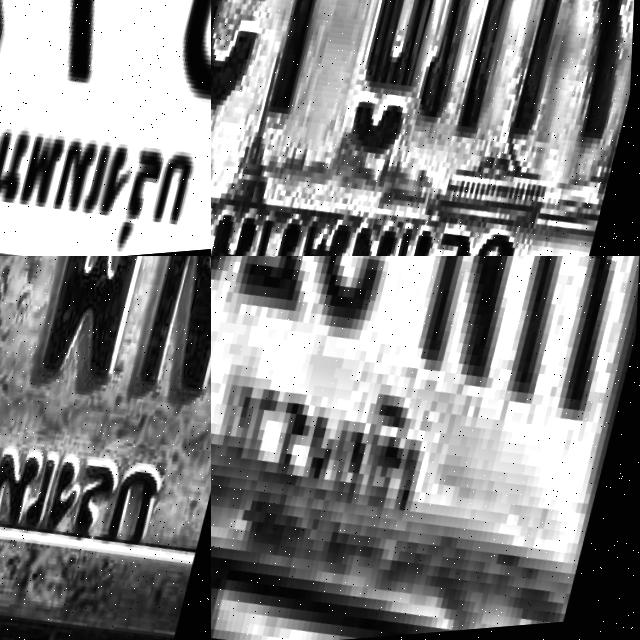license-plate: (211, 256, 640, 640), (211, 0, 640, 256), (0, 256, 211, 640), (0, 0, 211, 256)
